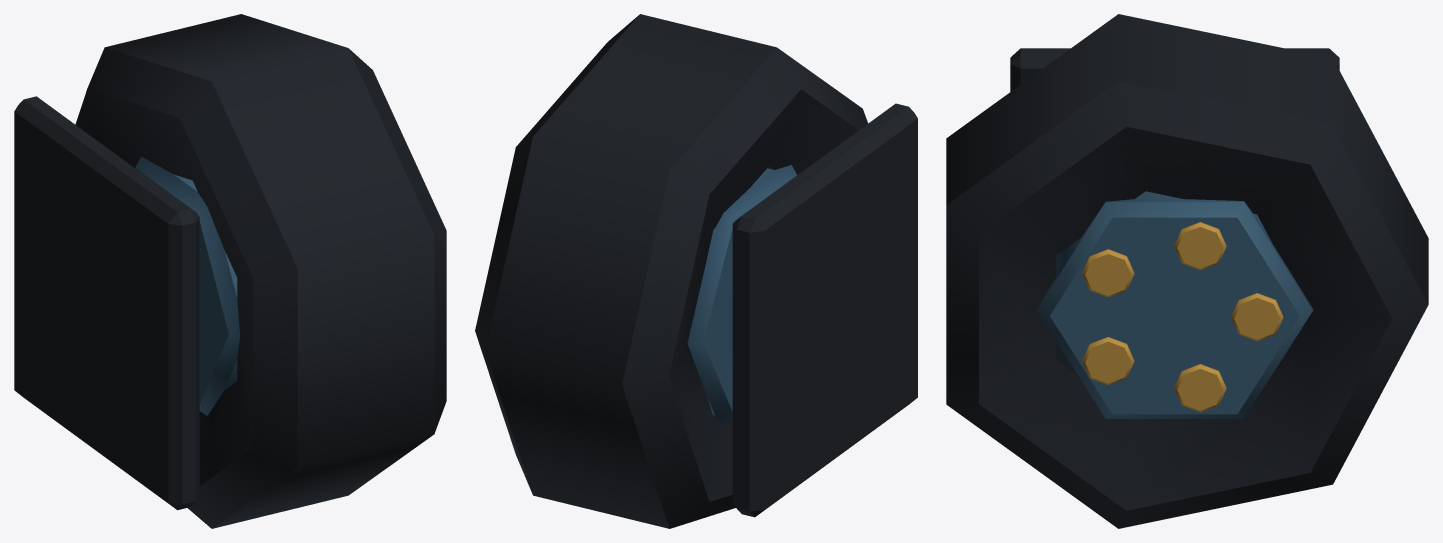
Rendered from R4M_WheelM_Side_Offroad_LOD1.glb.
3 renders of one model, left to right at view 1: azimuth 30°, elevation 25°; view 2: azimuth 150°, elevation 25°; view 3: azimuth 270°, elevation 25°, orthographic.
Parts seen in each view (by area): view 1: R4M_WheelM_Side_Offroad_LOD1; view 2: R4M_WheelM_Side_Offroad_LOD1; view 3: R4M_WheelM_Side_Offroad_LOD1.
Boxes of the visible parts, x1,y1,x2,y2 form: R4M_WheelM_Side_Offroad_LOD1: (14,14,446,528); R4M_WheelM_Side_Offroad_LOD1: (475,14,917,528); R4M_WheelM_Side_Offroad_LOD1: (946,14,1428,528).
Size of the model in its own units: 0.452 by 0.7507 by 0.7319.
